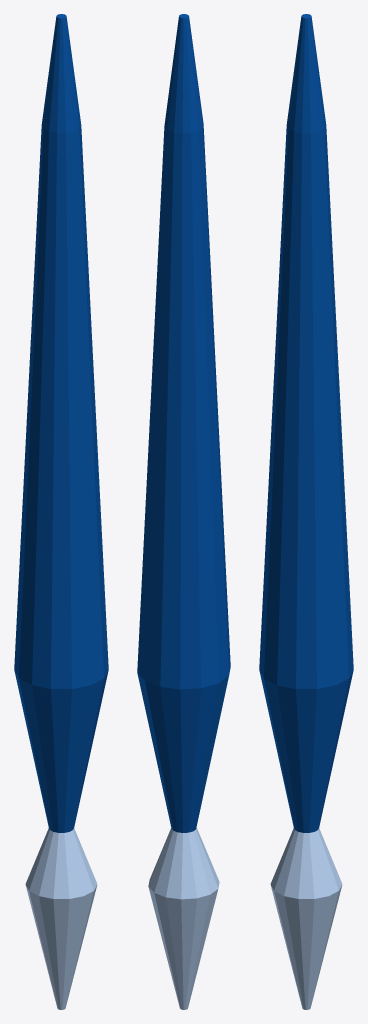
Rendered from paintbrush.fbx.
3 renders of one model, left to right at view 1: azimuth 90°, elevation 25°; view 2: azimuth 150°, elevation 25°; view 3: azimuth 270°, elevation 25°, orthographic.
Parts seen in each view (by area): view 1: paintbrush; view 2: paintbrush; view 3: paintbrush.
Part boxes in pixels (box(x1,y1,x2,y2)): paintbrush: box(14, 14, 108, 1009); paintbrush: box(137, 14, 230, 1009); paintbrush: box(259, 14, 353, 1009).
Size of the model in its own units: 0.0418 by 0.4964 by 0.0429.
Materials: 1 (1 with a texture image).
